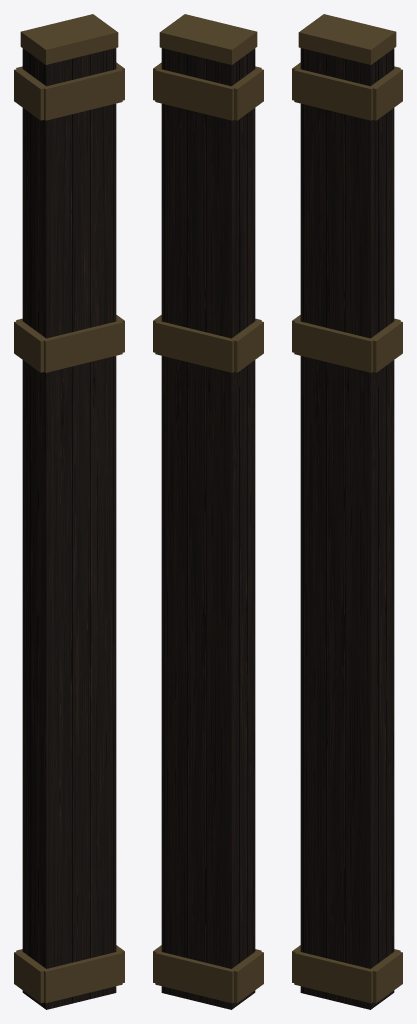
Rendered from doho_scabbard.glb.
3 renders of one model, left to right at view 1: azimuth 30°, elevation 25°; view 2: azimuth 150°, elevation 25°; view 3: azimuth 330°, elevation 25°, orthographic.
Parts seen in each view (by area): view 1: CandidateMesh; view 2: CandidateMesh; view 3: CandidateMesh.
Part boxes in pixels (x1,y1,x2,y2): CandidateMesh: (14, 14, 124, 1009); CandidateMesh: (153, 14, 263, 1009); CandidateMesh: (292, 14, 402, 1009).
Size of the model in its own units: 0.07 by 0.762 by 0.042.
Materials: 2 (1 with a texture image).
